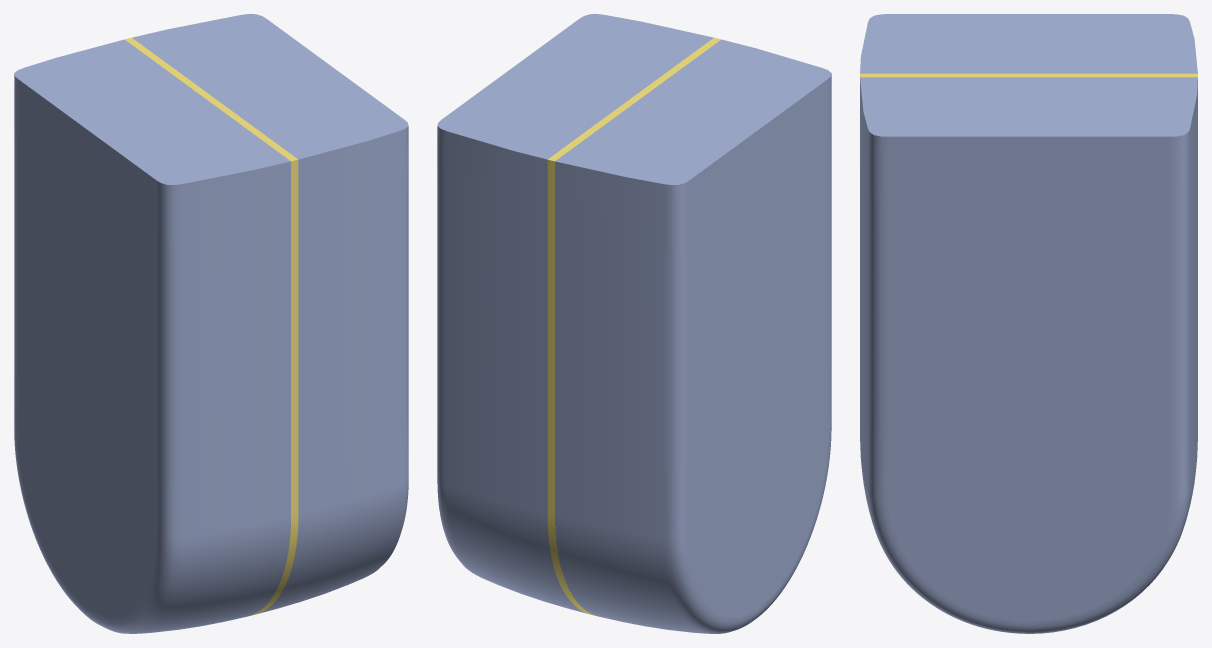
File: 小原子右胯.glb
3 views of the same model, side by side, from view 1: azimuth 30°, elevation 25°; view 2: azimuth 150°, elevation 25°; view 3: azimuth 270°, elevation 25° (orthographic).
Bounding box in the file's own units: 0.0662 × 0.1288 × 0.0769.
